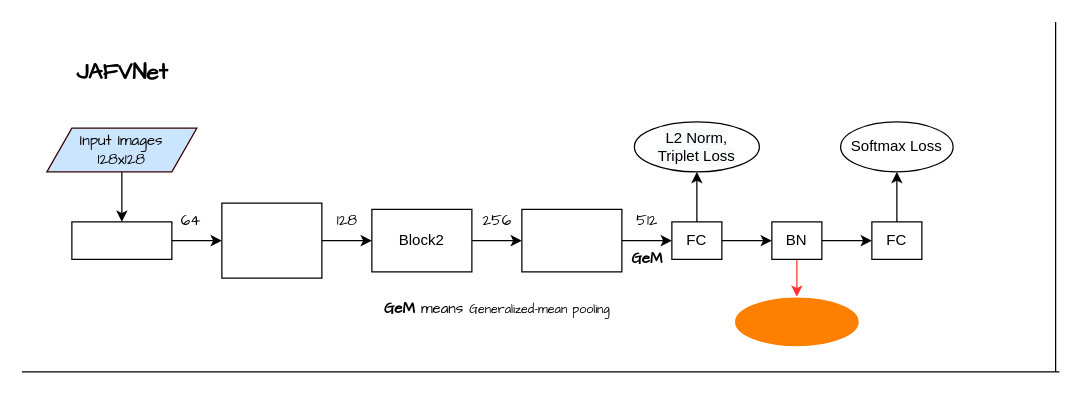
Image size: 1083x395. Some labels were removed from this diagram. The centre of each missing label's shape, as x and y in pixels:
"7x7 Conv, ReLU, BN" goes at pixel 121 240.
"Block1 (Conv, BN, JA, ReLU, MAP2-2)" goes at pixel 271 240.
"Block3" goes at pixel 571 240.
"Feature for matching" goes at pixel 796 321.
